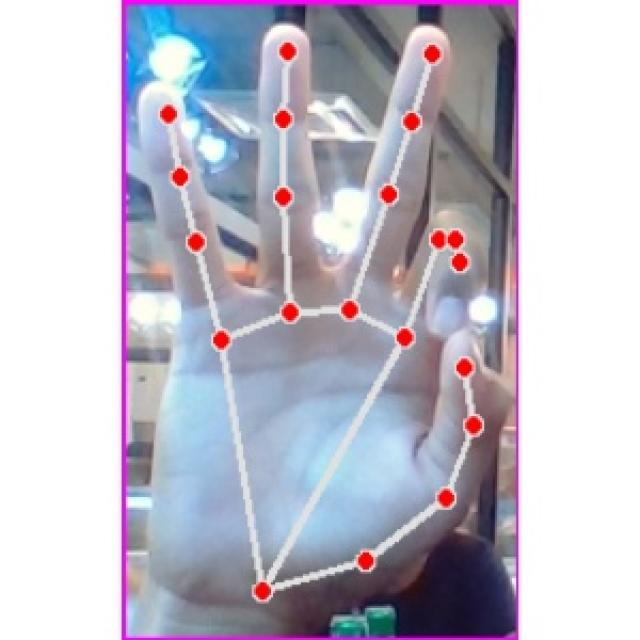F: (134, 19, 506, 604)
